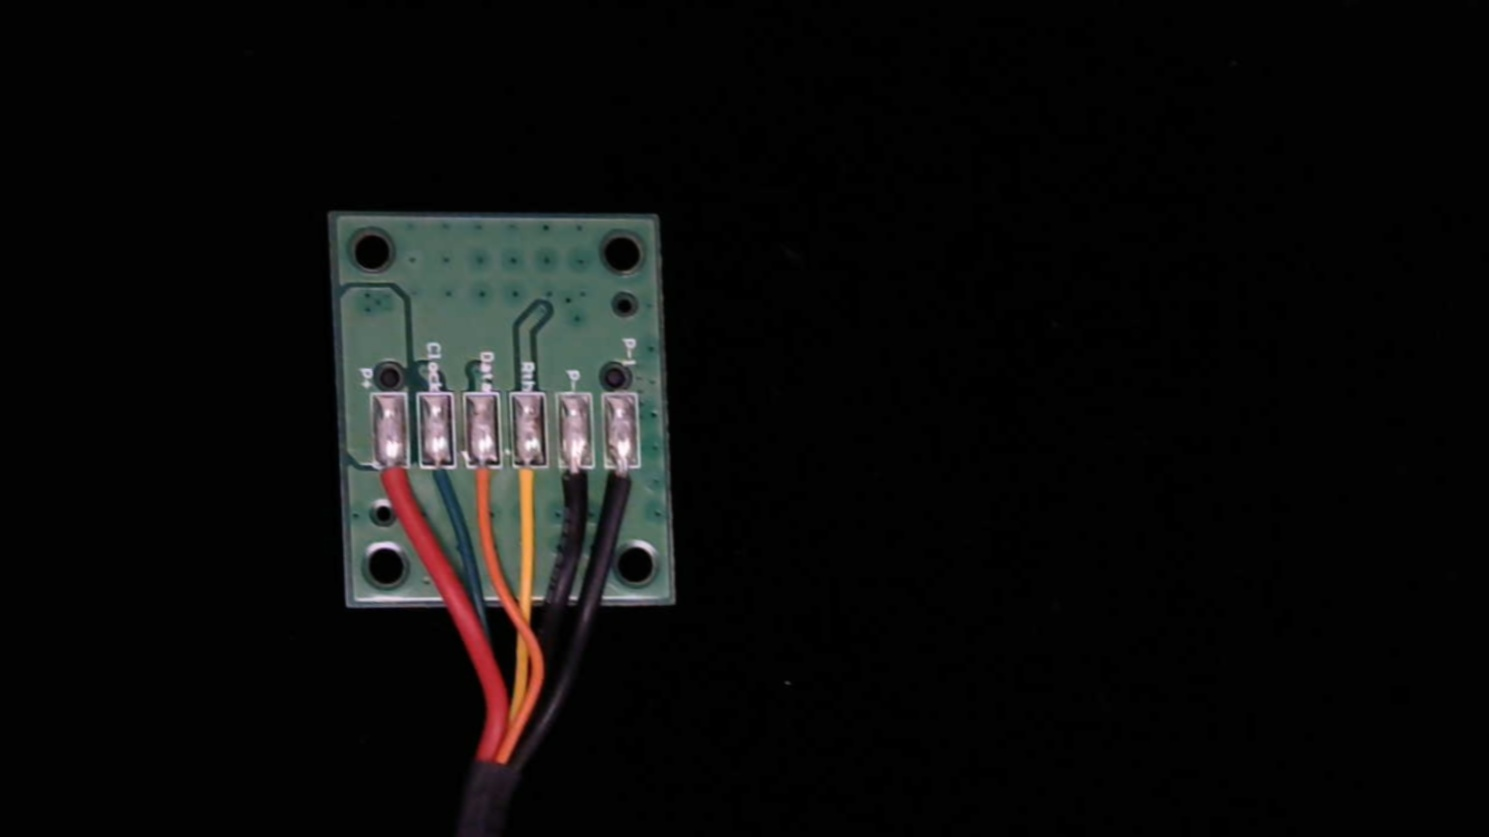Black: (553, 448, 597, 528)
Black1: (606, 448, 644, 522)
Green: (415, 444, 459, 528)
Orange: (464, 446, 505, 531)
Red: (371, 447, 415, 531)
Yellow: (509, 446, 550, 520)
